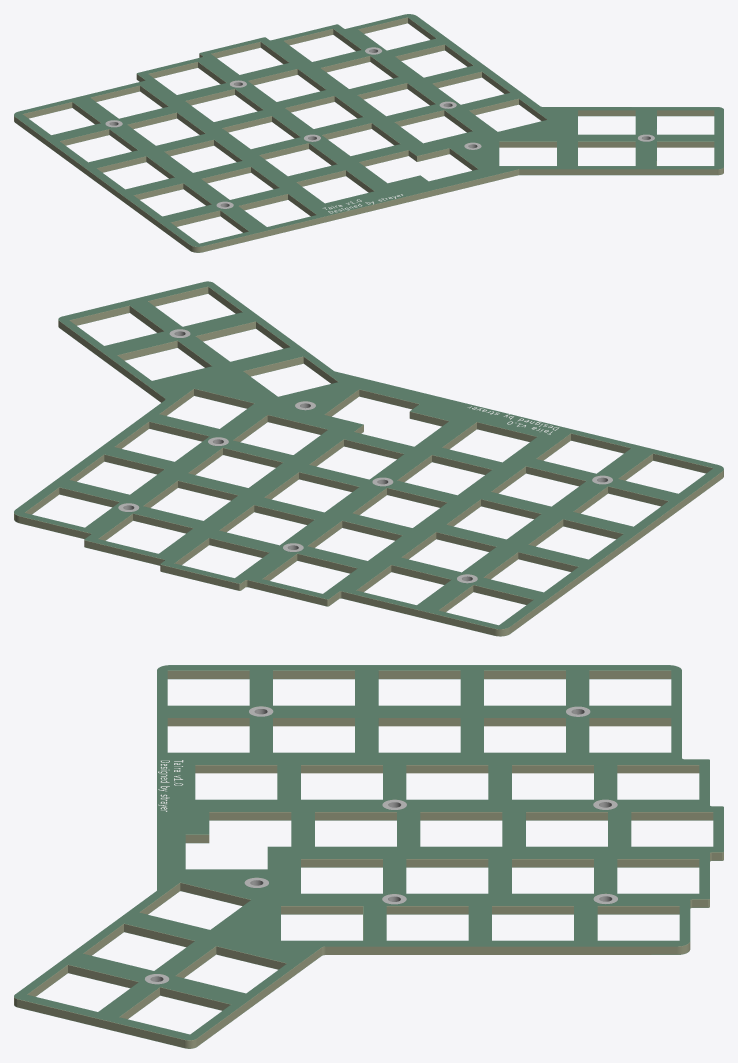
Rendered from board.glb.
3 renders of one model, top to bottom at view 1: azimuth 30°, elevation 25°; view 2: azimuth 150°, elevation 25°; view 3: azimuth 270°, elevation 25°, orthographic. The views are drawn at different scales.
Parts seen in each view (by area): view 1: board_PCB, board_soldermask (×2), board_pad; view 2: board_PCB, board_soldermask (×2), board_pad; view 3: board_PCB, board_soldermask (×2), board_pad.
Part boxes in pixels (x1,y1,x2,y2): board_PCB: (14,15,723,252); board_soldermask (×2): (14,14,723,252); board_pad: (105,47,654,208); board_PCB: (14,282,723,636); board_soldermask (×2): (14,281,723,636); board_pad: (118,329,612,583); board_PCB: (14,666,723,1048); board_soldermask (×2): (14,665,723,1048); board_pad: (145,706,617,984).
Bounding box in the file's own units: 0.1515 × 0.00166 × 0.1212.
